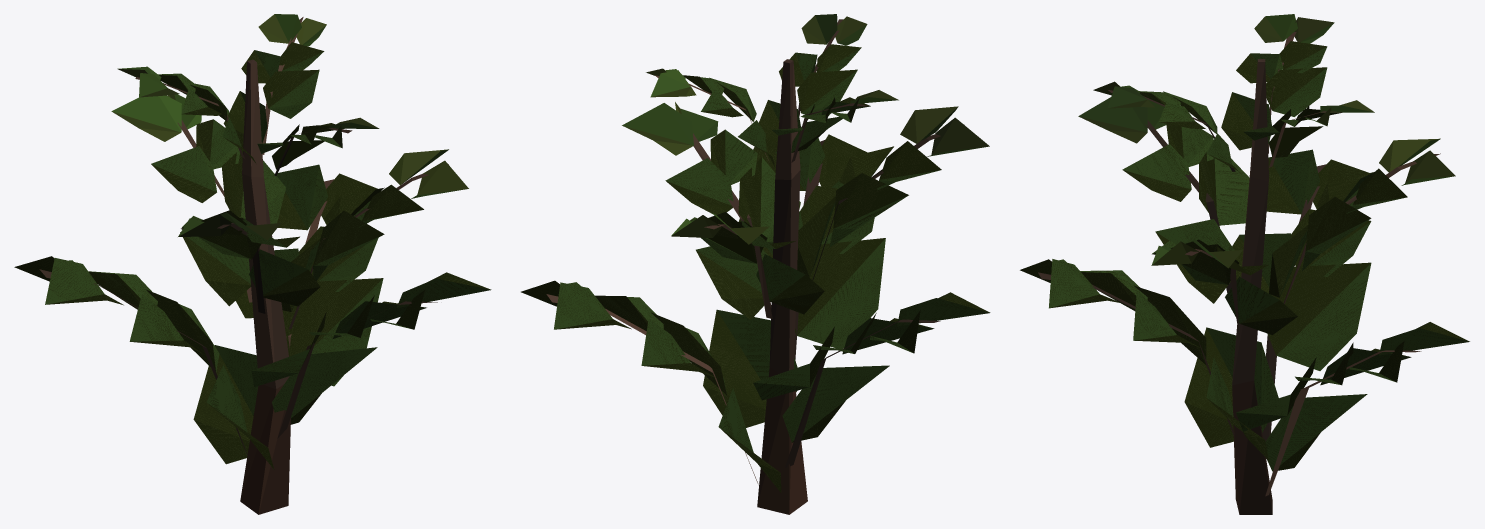
Rendered from fire-battlestaff.obj.
3 views of the same model, side by side, from view 1: azimuth 30°, elevation 25°; view 2: azimuth 150°, elevation 25°; view 3: azimuth 270°, elevation 25° (orthographic).
Visible parts, largest first — view 1: Object Fire battlestaff 2026-09-24_19-52-47; view 2: Object Fire battlestaff 2026-09-24_19-52-47; view 3: Object Fire battlestaff 2026-09-24_19-52-47.
Boxes of the visible parts, bbox=[...] form: Object Fire battlestaff 2026-09-24_19-52-47: bbox=[14, 14, 491, 514]; Object Fire battlestaff 2026-09-24_19-52-47: bbox=[521, 14, 990, 514]; Object Fire battlestaff 2026-09-24_19-52-47: bbox=[1020, 14, 1469, 514].
Bounding box in the file's own units: 126 × 133 × 123.
